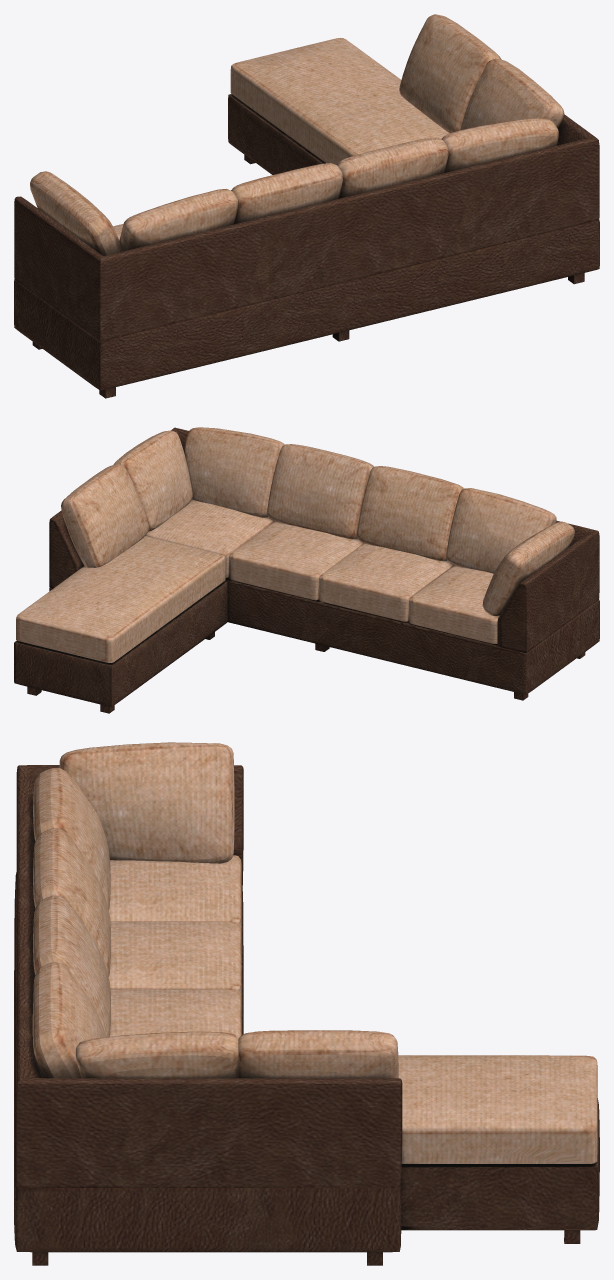
File: Sofa2.obj
The picture shows the model from 3 angles, top to bottom: view 1: azimuth 30°, elevation 25°; view 2: azimuth 150°, elevation 25°; view 3: azimuth 270°, elevation 25°; orthographic projection. The views are drawn at different scales.
Visible parts, largest first — view 1: Sofa2; view 2: Sofa2; view 3: Sofa2.
Boxes of the visible parts, x1,y1,x2,y2 form: Sofa2: (14, 14, 599, 398); Sofa2: (14, 427, 599, 713); Sofa2: (14, 742, 599, 1265).
Size of the model in its own units: 6.06 by 1.99 by 4.7.
1 material, 1 textured.
